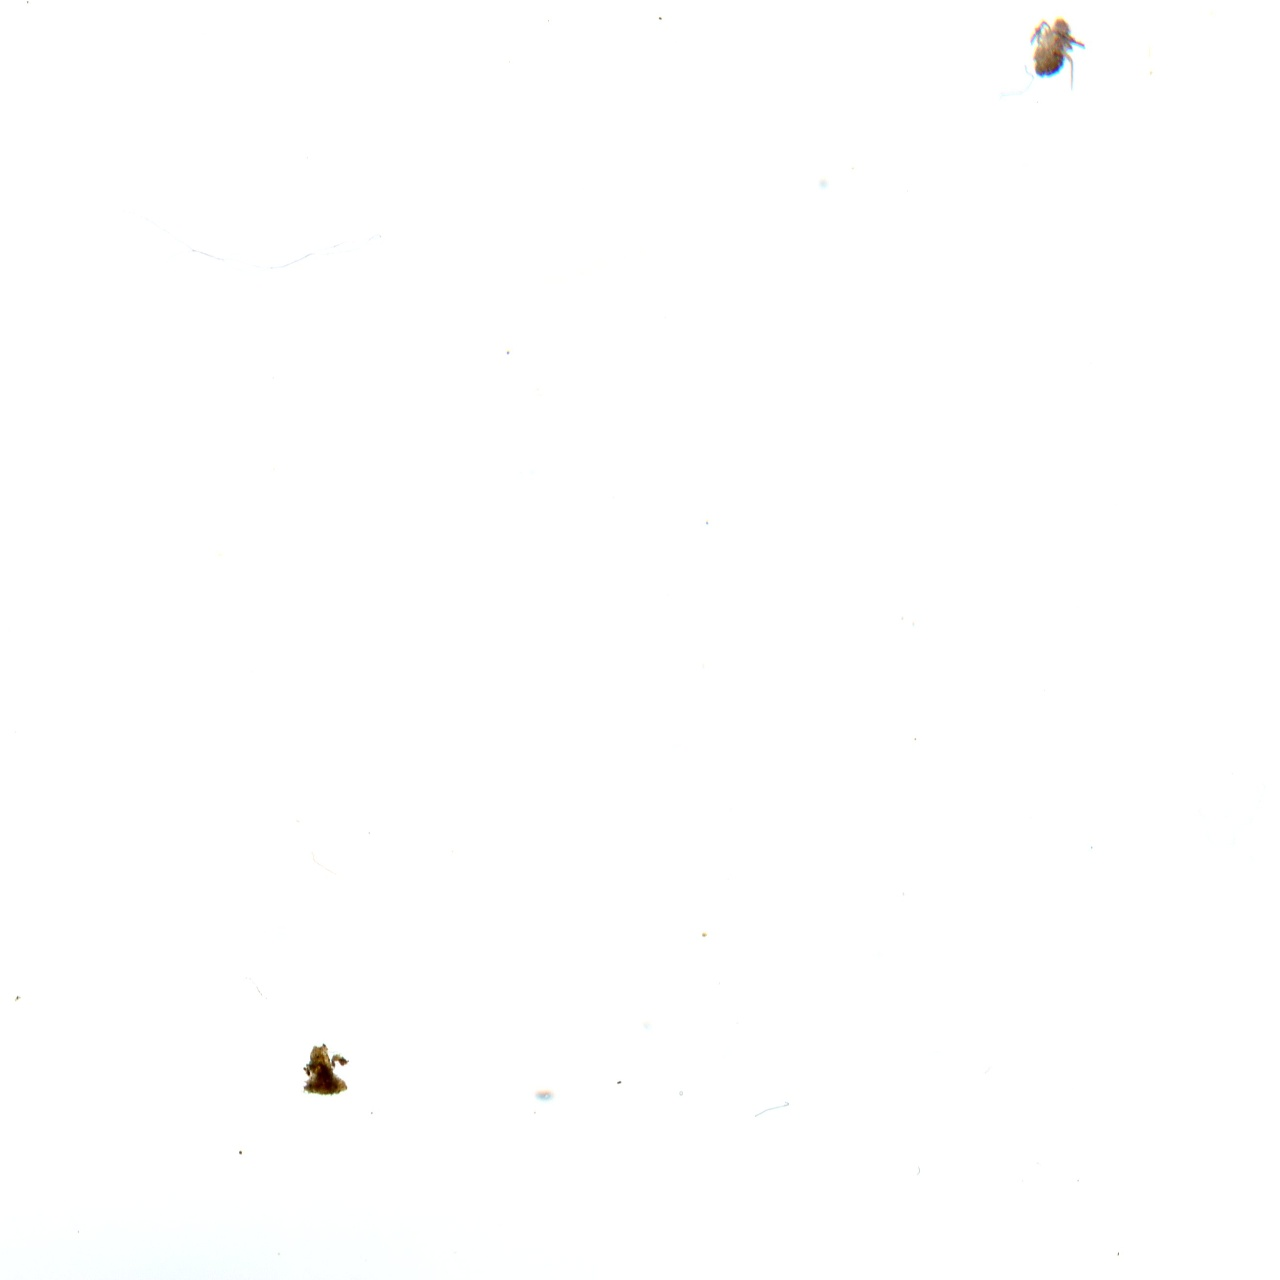arthropod: (1026, 14, 1090, 93)
